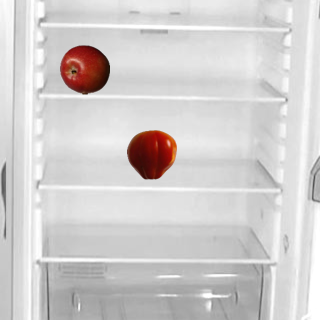Apple Braeburn: (59, 44, 109, 94)
Tomato 1: (126, 129, 176, 179)
